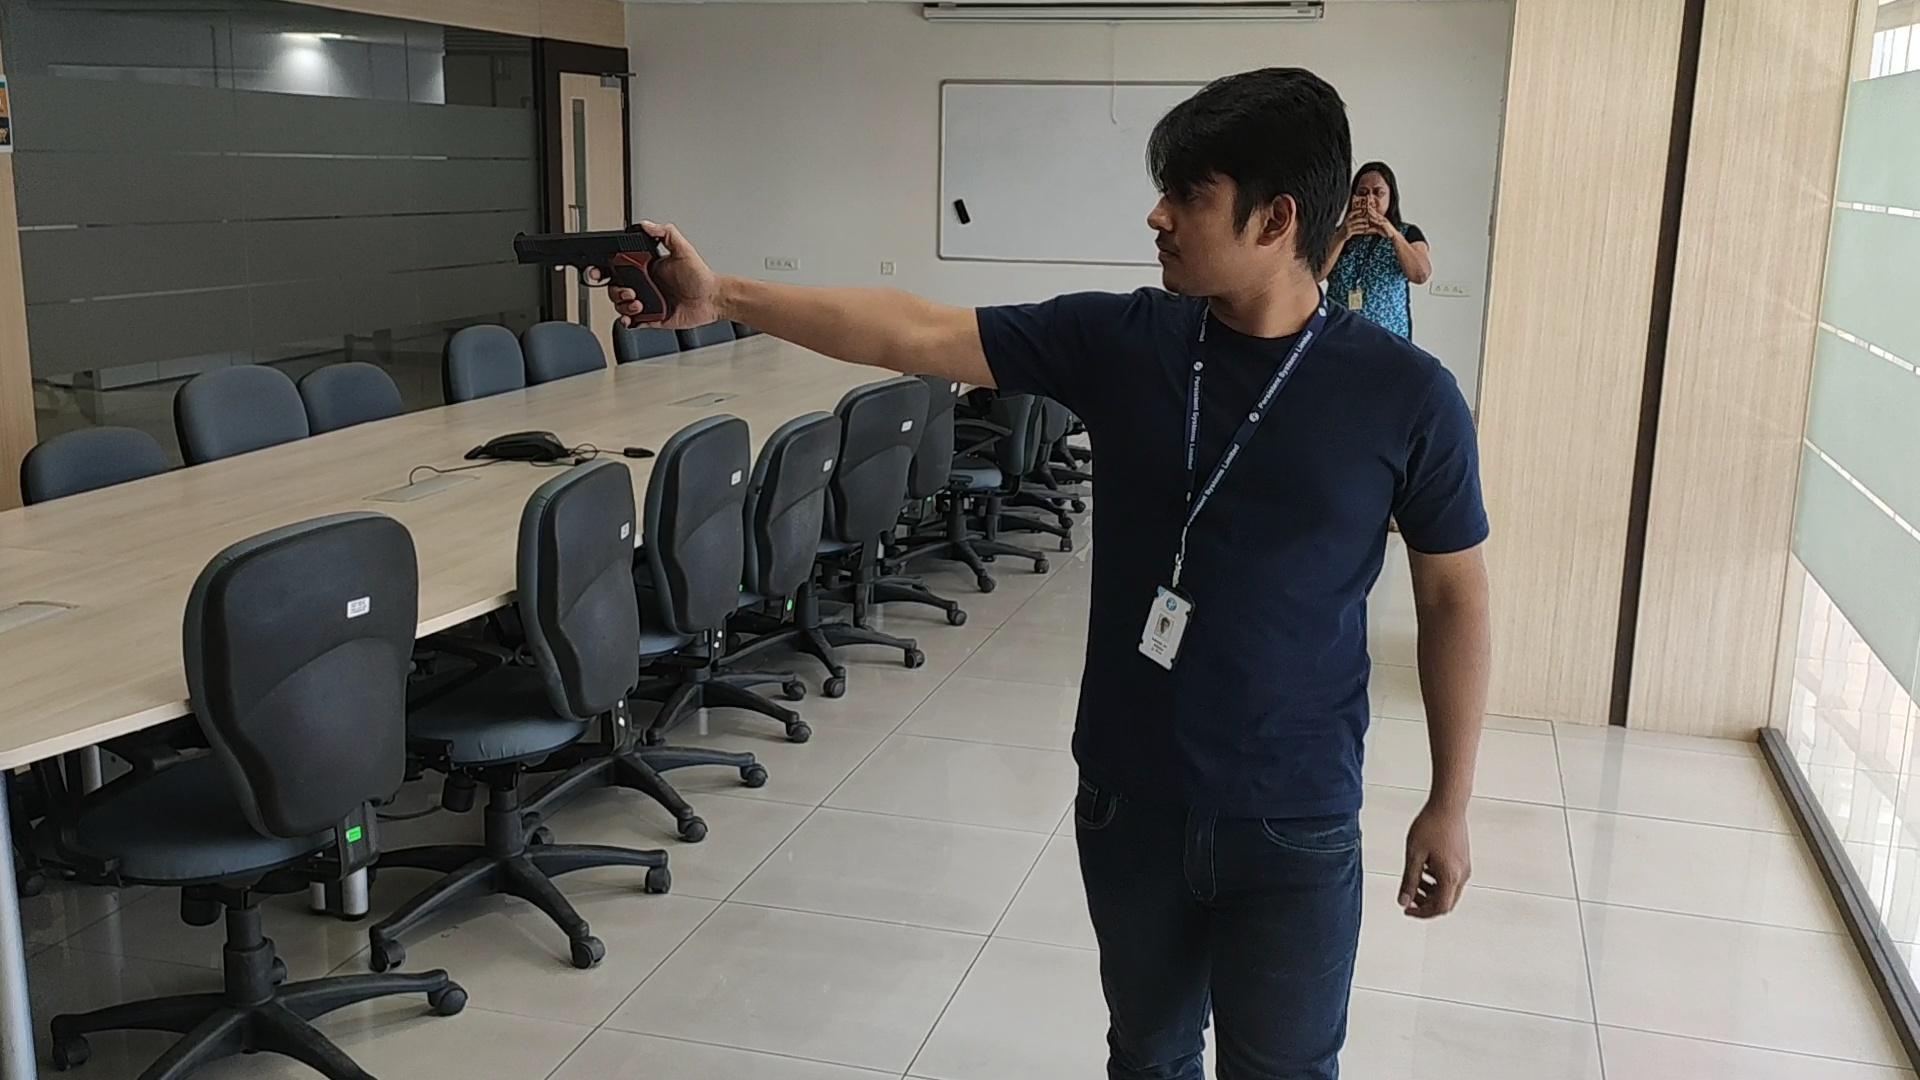gun: (512, 223, 670, 320)
